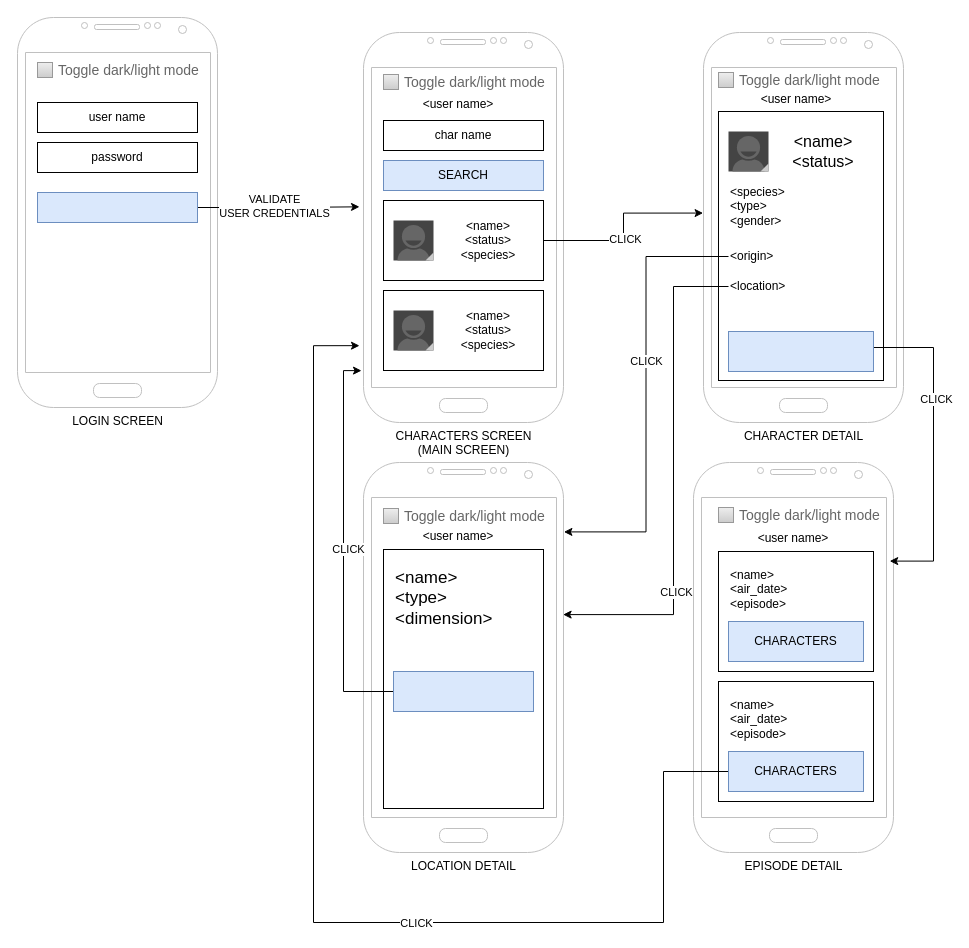
Some shapes in this 969 by 948 pixel diagram are drawn without their labels. Here are the shapes that lost their labels. From the top down, the centre of each, then its label:
At point (117, 207): "ENTER".
At point (801, 351): "EPISODES".
At point (463, 691): "RESIDENTS".
